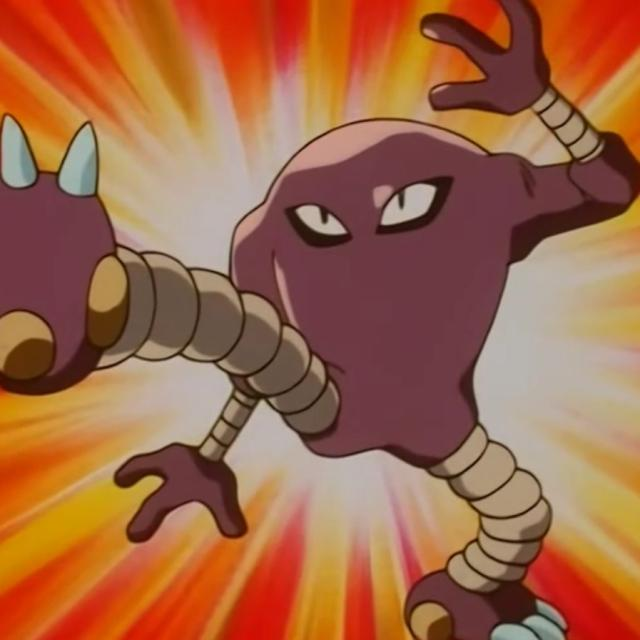Hitmonlee: (133, 112, 575, 541)
